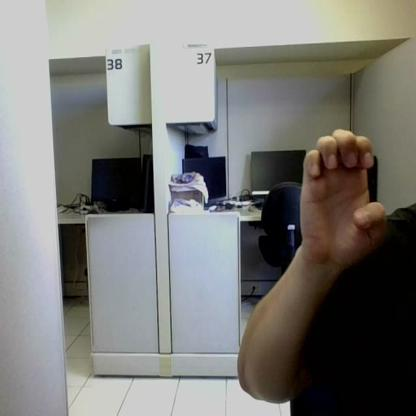E: (302, 130, 386, 261)
